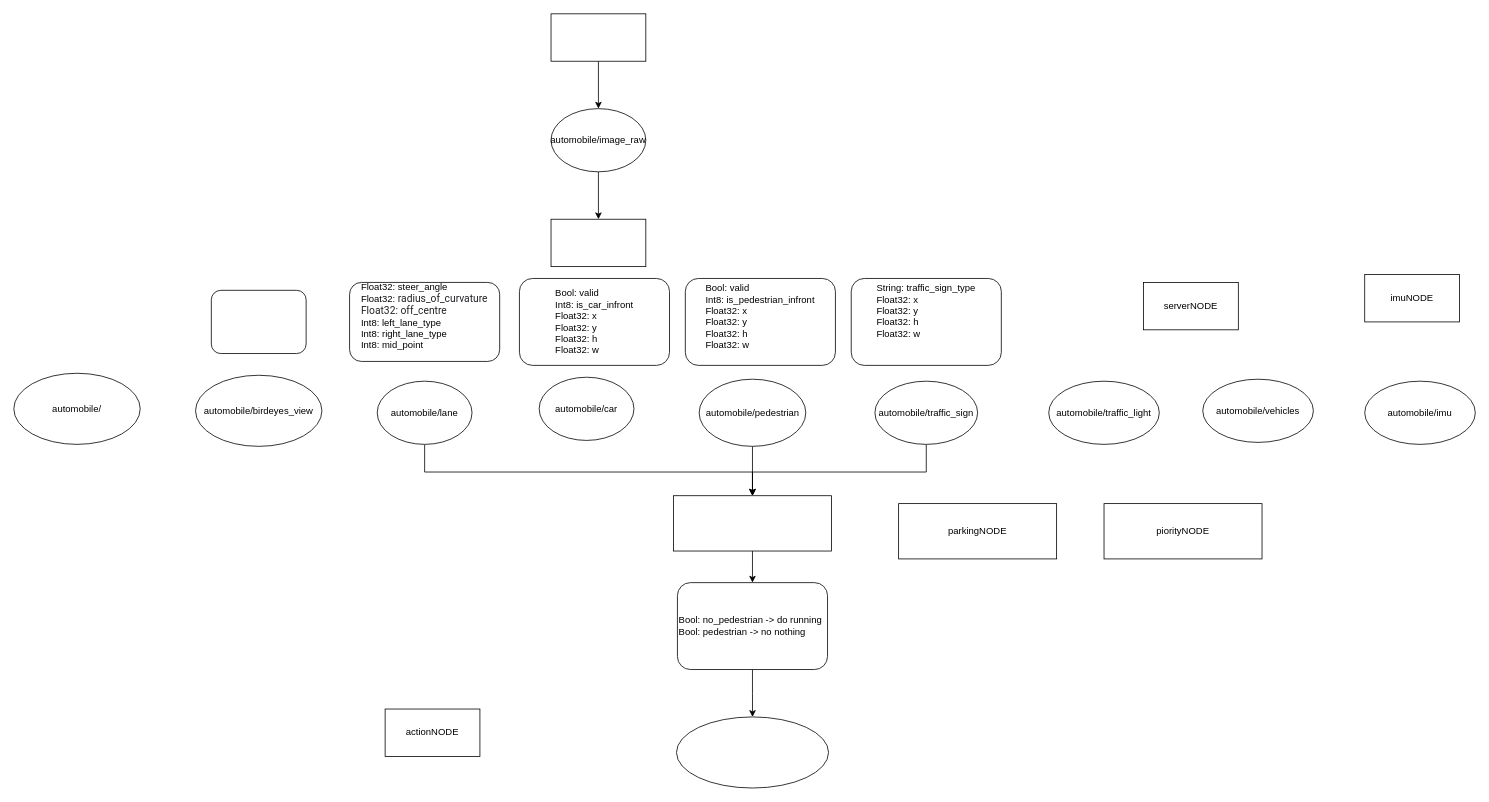
The diagram is 1489 pixels wide and 802 high, and some of its shapes have lost their labels. The box of each missing label's shape, as (x1, y1, x2, y2) in pixels:
automobile/pedestrian_test: (676, 716, 829, 788)
cameraNODE: (550, 13, 646, 61)
Image: (211, 290, 306, 354)
pedestrianNODE: (673, 495, 831, 551)
perceptionNODE: (550, 218, 646, 267)
